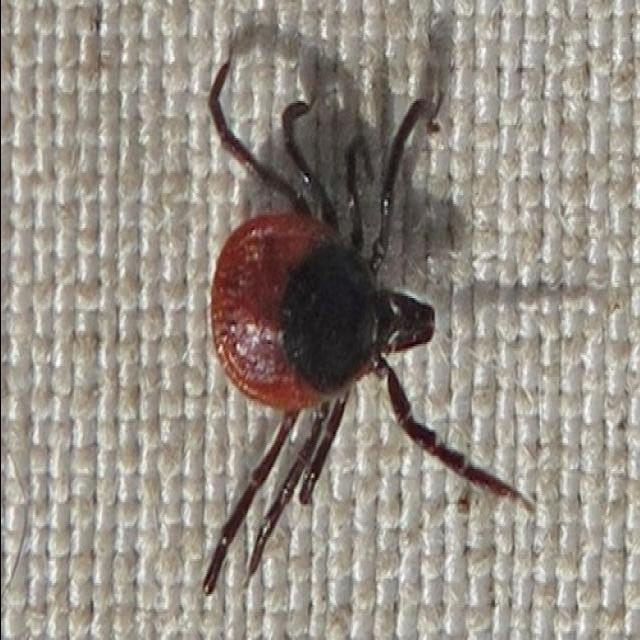Ixodes Ricinus-F: (200, 59, 527, 596)
